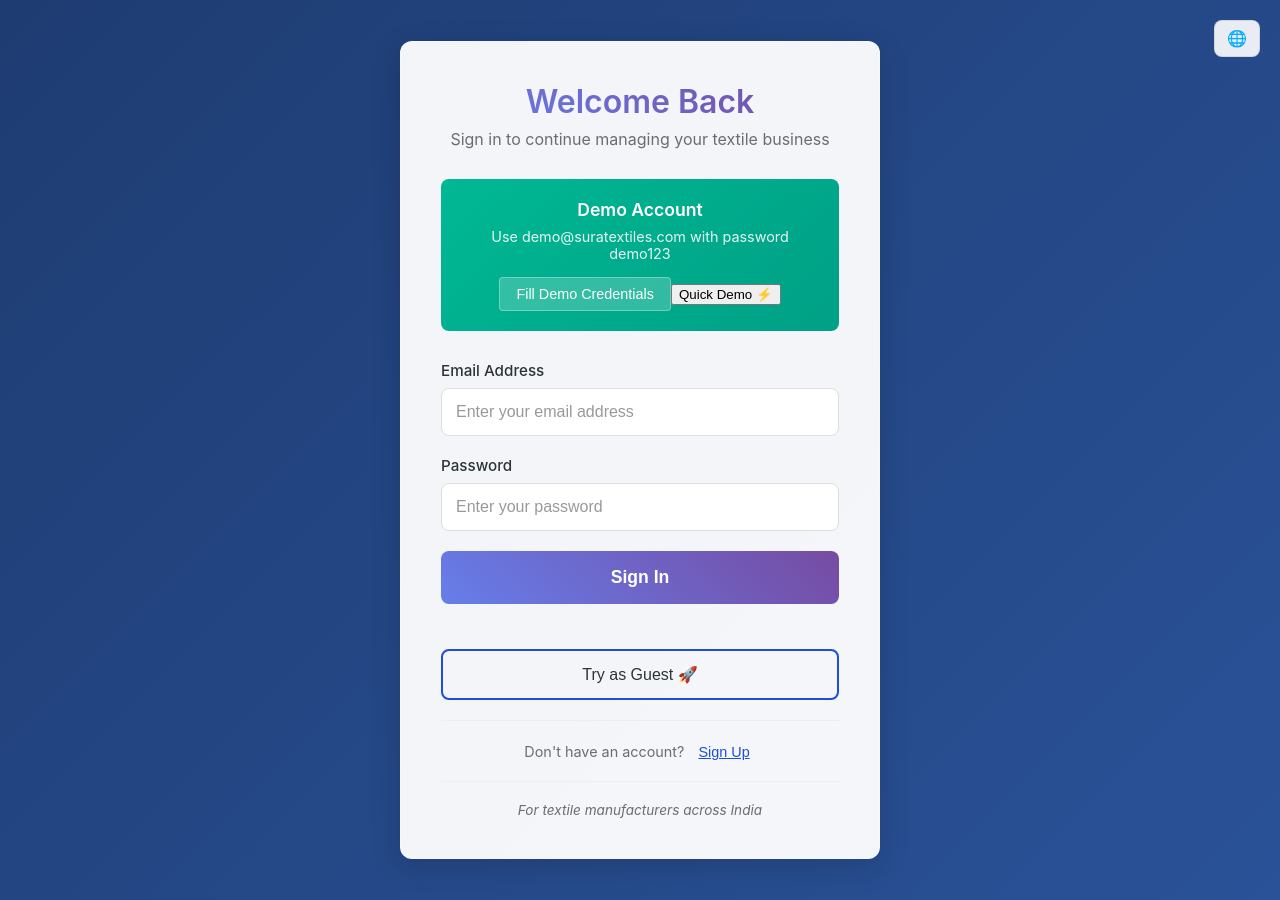
Scenario: Login Component › Authentication Logic › should show error with invalid credentials
This screenshot has width=1280, height=900.
In the field labelled "Email Address": (640, 412) [441,388,839,436], type "wrong@example.com"
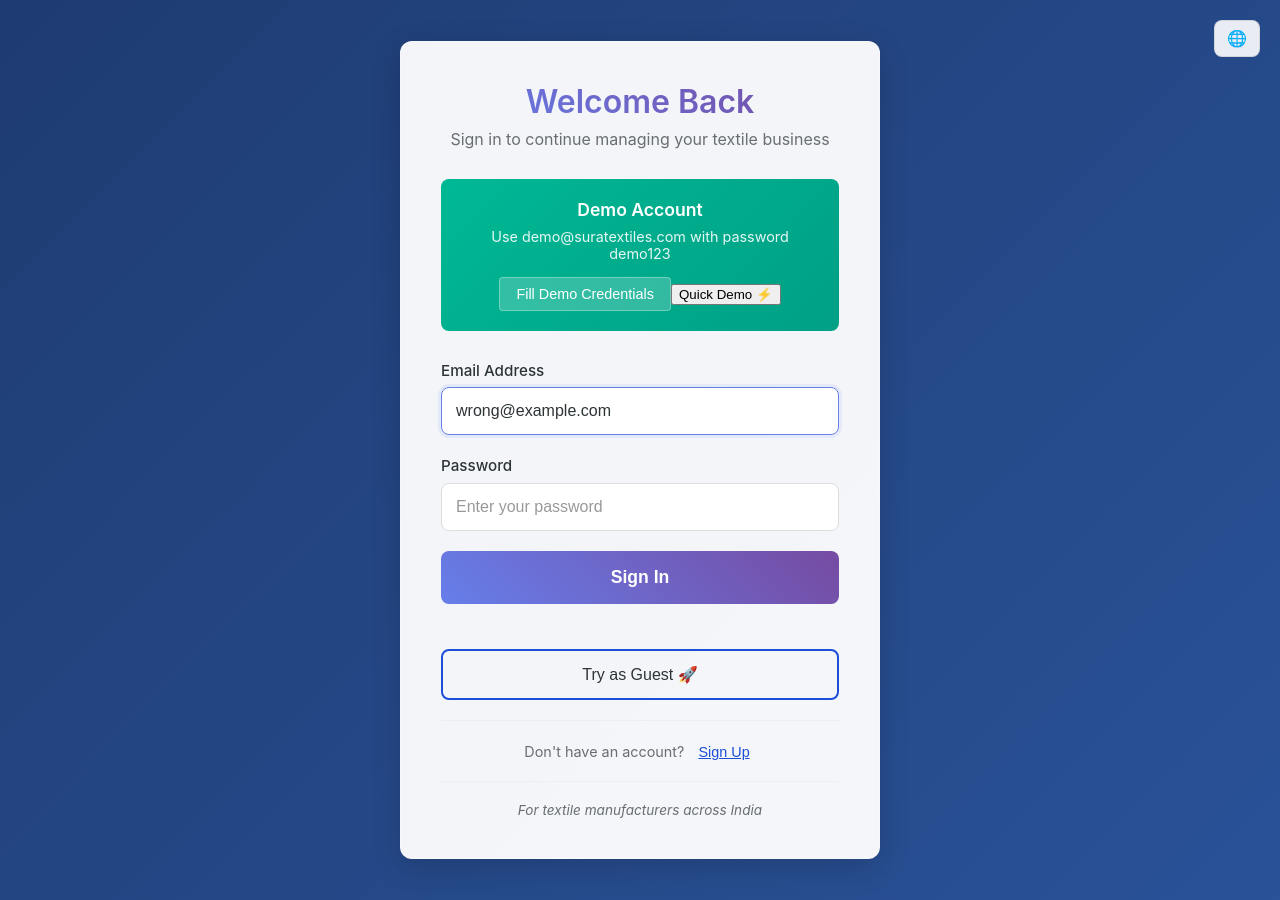
In the password field labelled "Password": (640, 507) [441,483,839,531], type "wrongpassword"
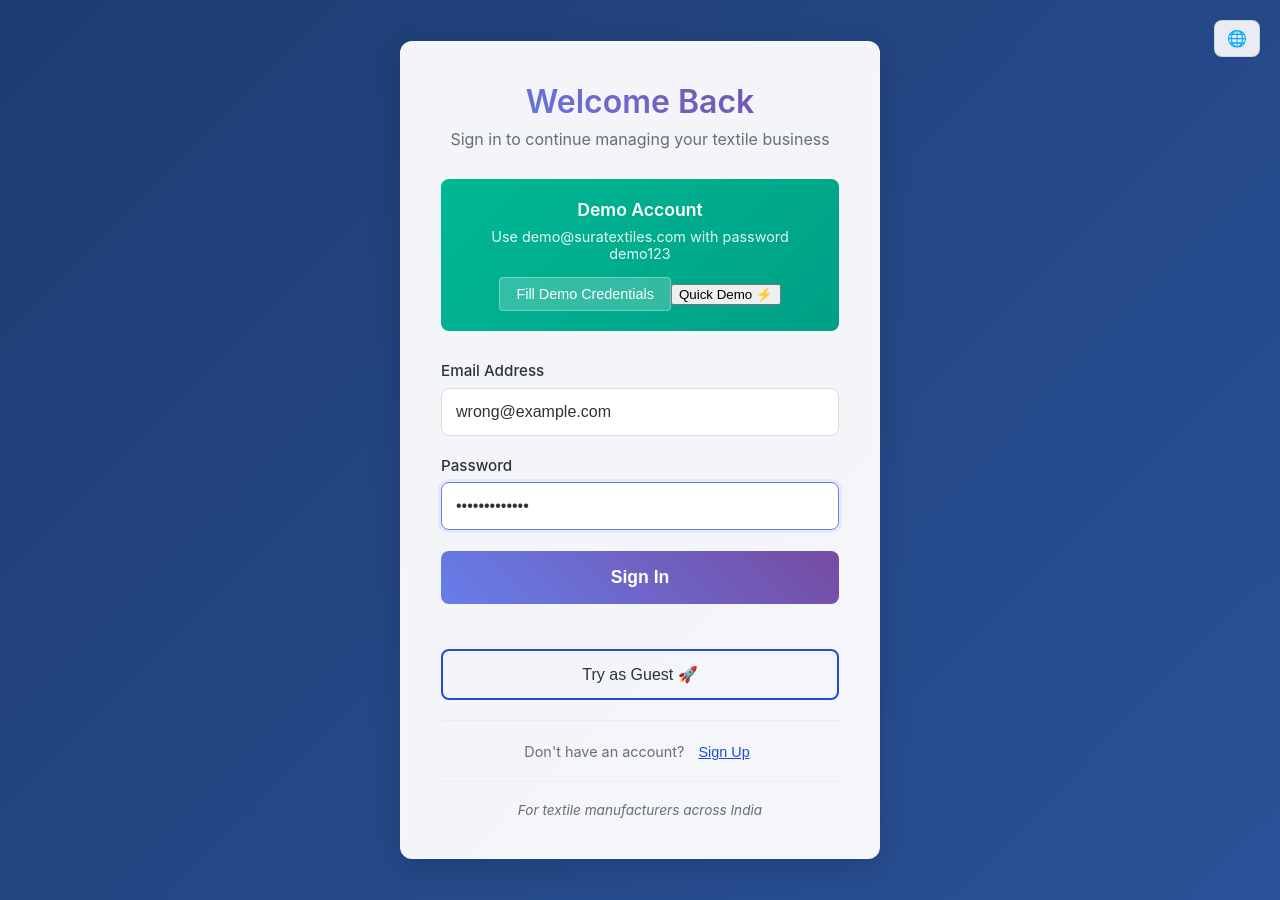
Click the button "Sign In": (640, 578) [441,551,839,604]
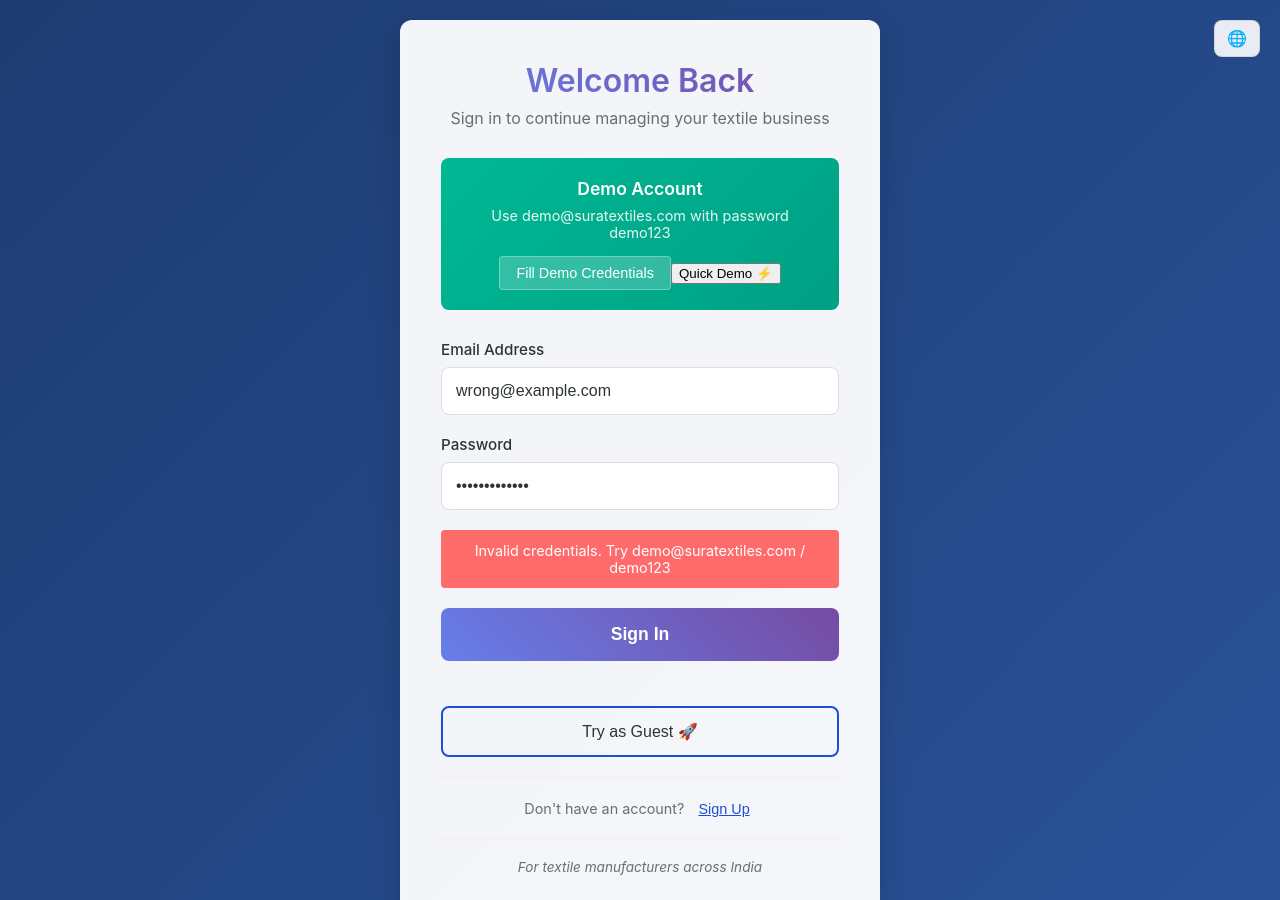
Check: the text "Invalid credentials. Try demo@suratextiles.com / demo123" is shown, box [441,530,839,588]
